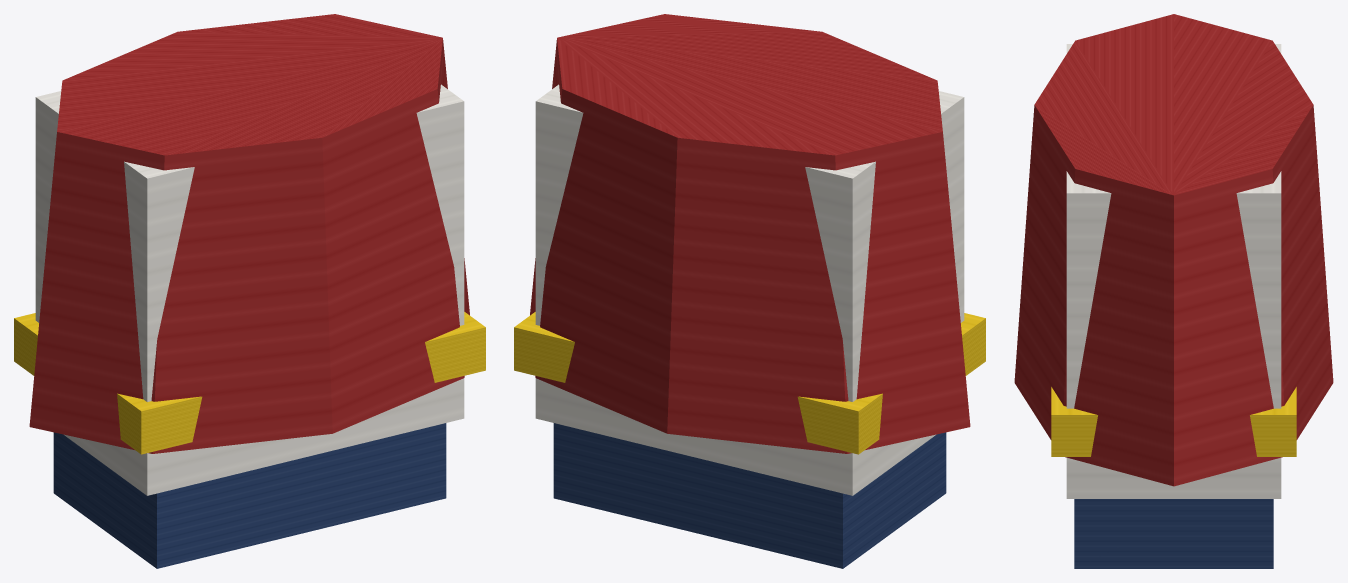
Rendered from caminante_torso.obj.
3 views of the same model, side by side, from view 1: azimuth 30°, elevation 25°; view 2: azimuth 150°, elevation 25°; view 3: azimuth 270°, elevation 25° (orthographic). The views are drawn at different scales.
Visible parts, largest first — view 1: caminante_torso; view 2: caminante_torso; view 3: caminante_torso.
Part boxes in pixels (x1,y1,x2,y2): caminante_torso: (14,14,485,568); caminante_torso: (514,14,985,568); caminante_torso: (1014,14,1333,568).
Size of the model in its own units: 0.32 by 0.285 by 0.208.
Materials: 1 (1 with a texture image).
